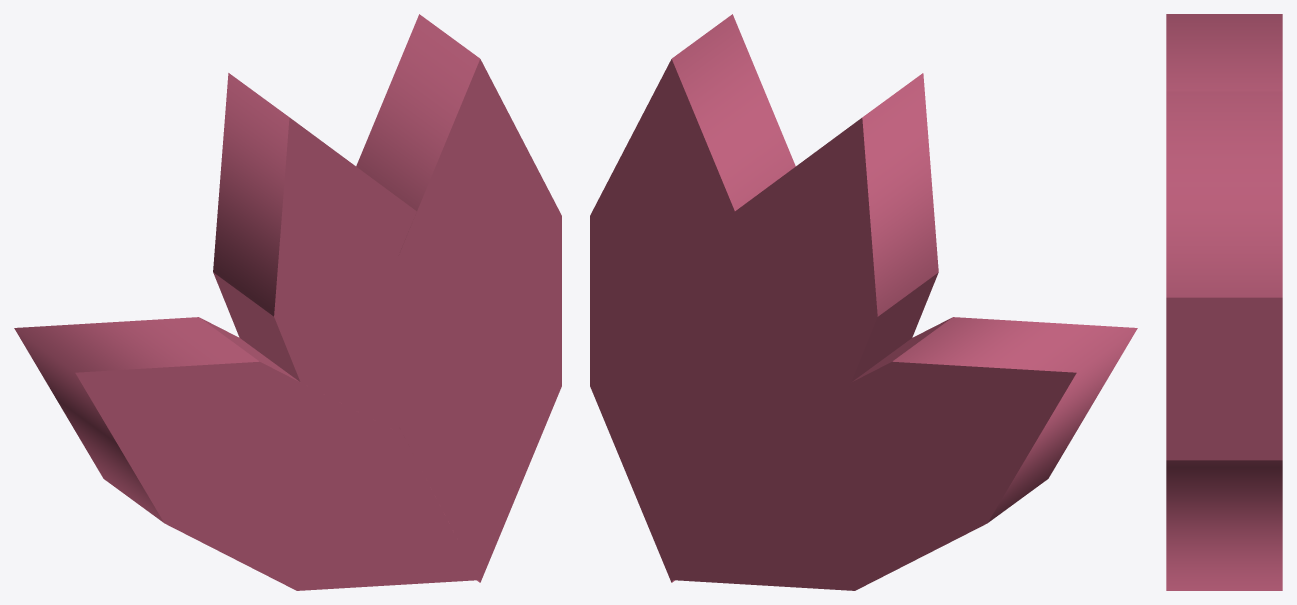
The model's file is Patas.fbx.
3 renders of one model, left to right at view 1: azimuth 30°, elevation 25°; view 2: azimuth 150°, elevation 25°; view 3: azimuth 270°, elevation 25°, orthographic. The views are drawn at different scales.
Visible parts, largest first — view 1: pCube9; view 2: pCube9; view 3: pCube9.
Boxes of the visible parts, x1=… form: pCube9: x1=14, y1=14, x2=561, y2=590; pCube9: x1=590, y1=14, x2=1137, y2=590; pCube9: x1=1166, y1=14, x2=1282, y2=590.
Size of the model in its own units: 2.98 by 3.07 by 0.6493.
